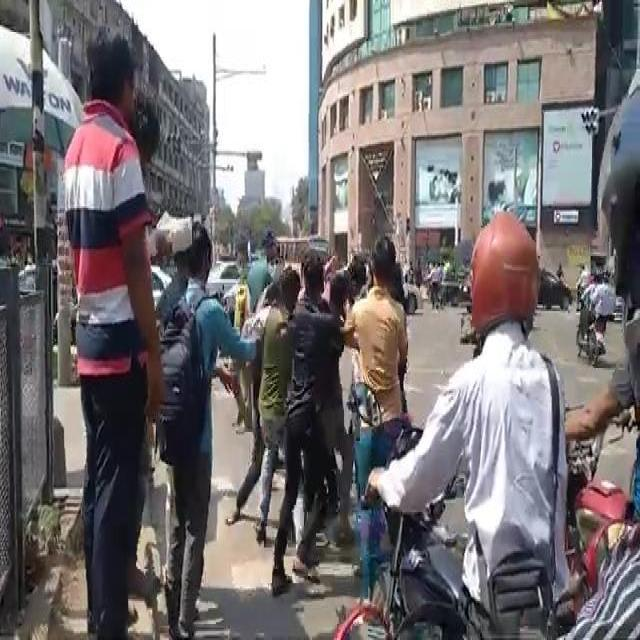fight: (46, 21, 160, 640), (408, 239, 569, 630), (248, 208, 422, 537), (168, 226, 246, 634)
